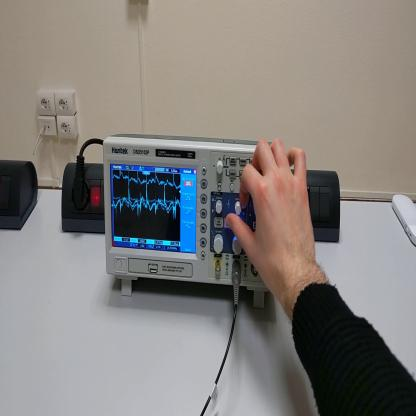hand: (229, 137, 320, 302)
oscilloscope: (104, 133, 272, 309)
socket: (62, 161, 106, 236), (1, 158, 40, 231)
